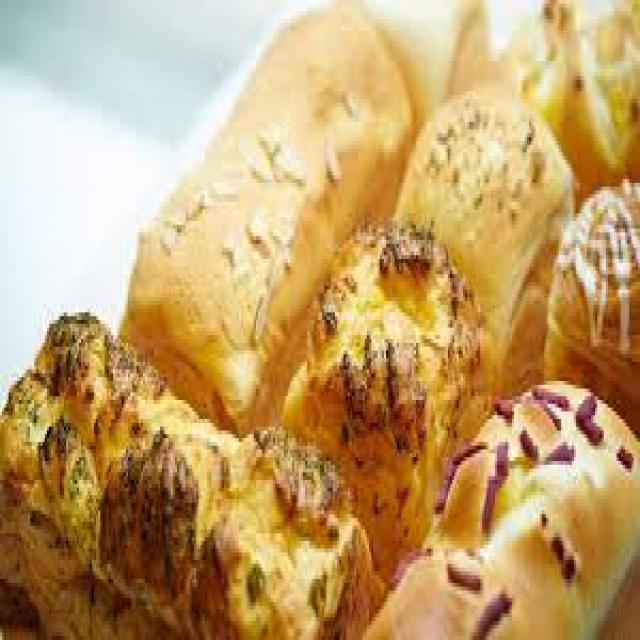organic waste: (120, 0, 422, 438), (0, 301, 371, 636), (275, 217, 495, 583), (358, 370, 638, 636), (390, 84, 576, 388), (540, 176, 638, 430), (520, 0, 638, 206), (433, 0, 548, 91)
